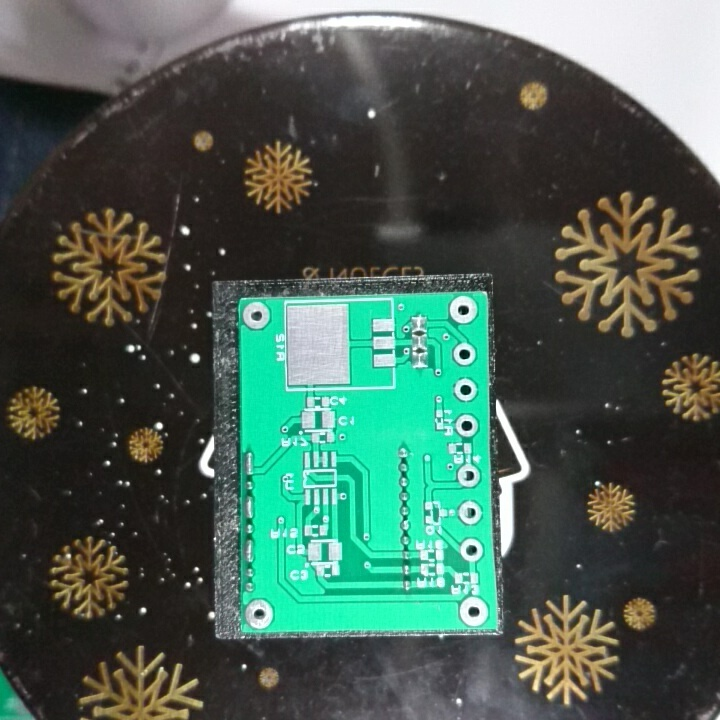F: (239, 298, 273, 333), (242, 598, 277, 630), (457, 595, 491, 627), (448, 294, 479, 326), (453, 412, 482, 440), (457, 536, 485, 564), (456, 498, 484, 526), (451, 375, 479, 403), (455, 462, 484, 489), (451, 340, 479, 366)
P: (242, 492, 257, 520), (241, 538, 255, 565), (243, 449, 257, 475)
